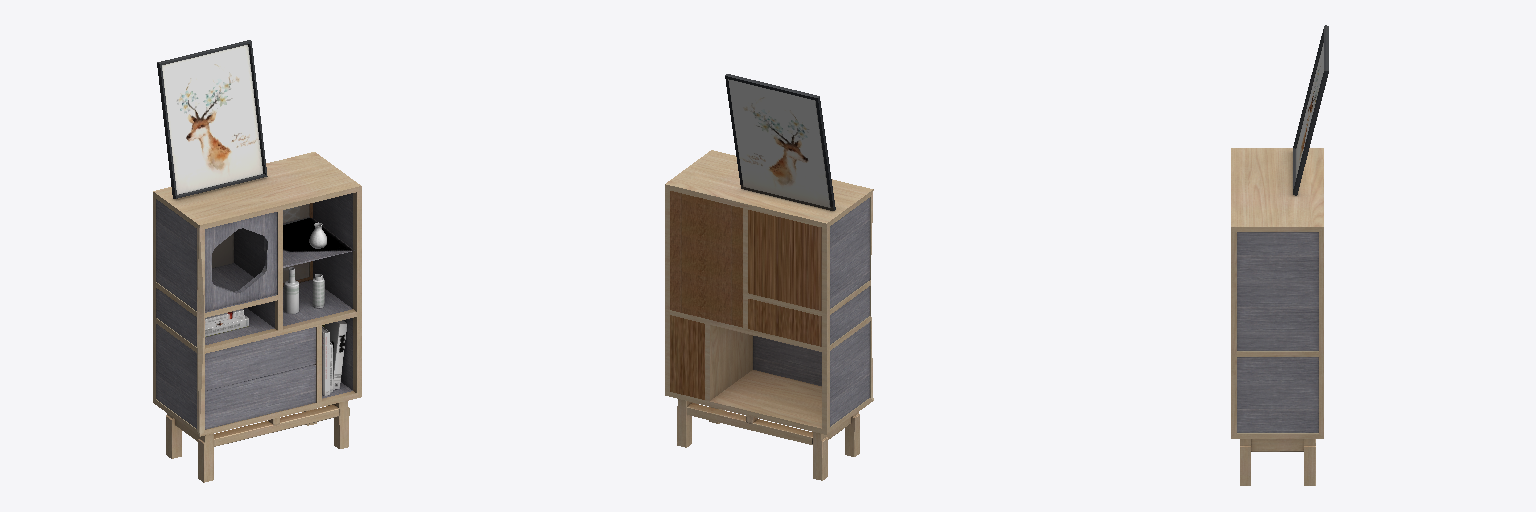
3 renders of one model, left to right at view 1: azimuth 30°, elevation 25°; view 2: azimuth 150°, elevation 25°; view 3: azimuth 270°, elevation 25°, orthographic.
Parts seen in each view (by area): view 1: solid_002, solid_001, solid_013, solid_014, solid_021, solid_004, solid_007; view 2: solid_001, solid_015, solid_002, solid_013, solid_014; view 3: solid_002, solid_001, solid_014, solid_013.
Part boxes in pixels (left/top/right/bottom): solid_002: left=156, top=193, right=354, bottom=429; solid_001: left=153, top=152, right=361, bottom=482; solid_013: left=162, top=45, right=262, bottom=194; solid_014: left=157, top=40, right=267, bottom=198; solid_021: left=322, top=322, right=346, bottom=389; solid_004: left=283, top=204, right=309, bottom=282; solid_007: left=284, top=267, right=298, bottom=313; solid_001: left=665, top=150, right=873, bottom=480; solid_015: left=670, top=191, right=821, bottom=399; solid_002: left=753, top=198, right=869, bottom=426; solid_013: left=728, top=79, right=830, bottom=207; solid_014: left=725, top=74, right=835, bottom=210; solid_002: left=1237, top=232, right=1318, bottom=432; solid_001: left=1231, top=148, right=1323, bottom=485; solid_014: left=1293, top=25, right=1328, bottom=195; solid_013: left=1296, top=43, right=1323, bottom=177.
Bounding box in the file's own units: 0.66 × 1.51 × 0.3469.
Materials: 1 (1 with a texture image).